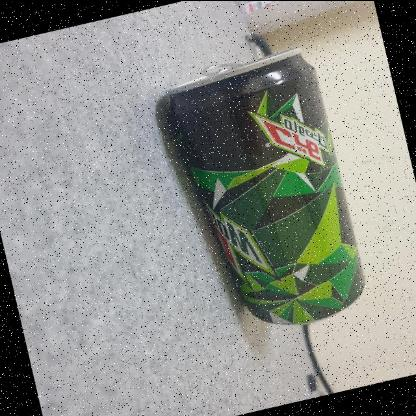Can: (170, 46, 366, 322)
